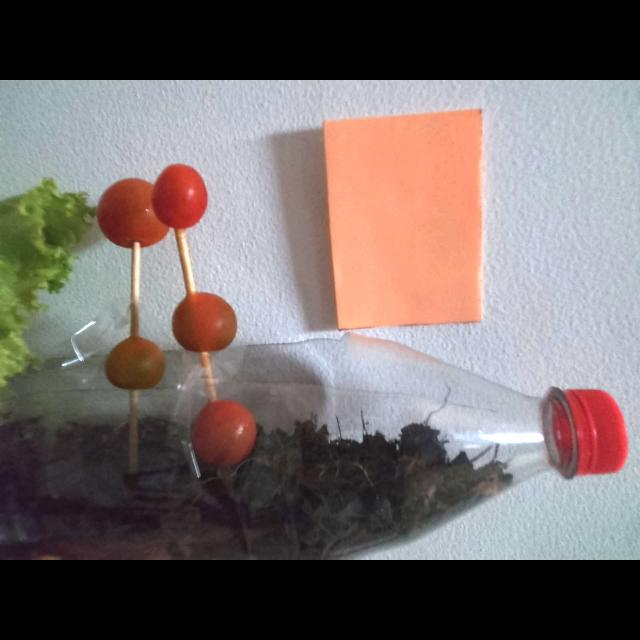card: (324, 109, 482, 329)
fruit_maturation: (97, 178, 169, 249), (191, 399, 257, 467), (172, 293, 237, 352)
fully_grown: (152, 164, 207, 229), (105, 337, 165, 390)
